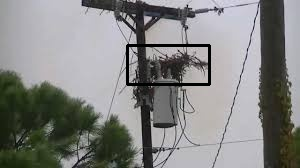bird-nest: (127, 45, 209, 84)
